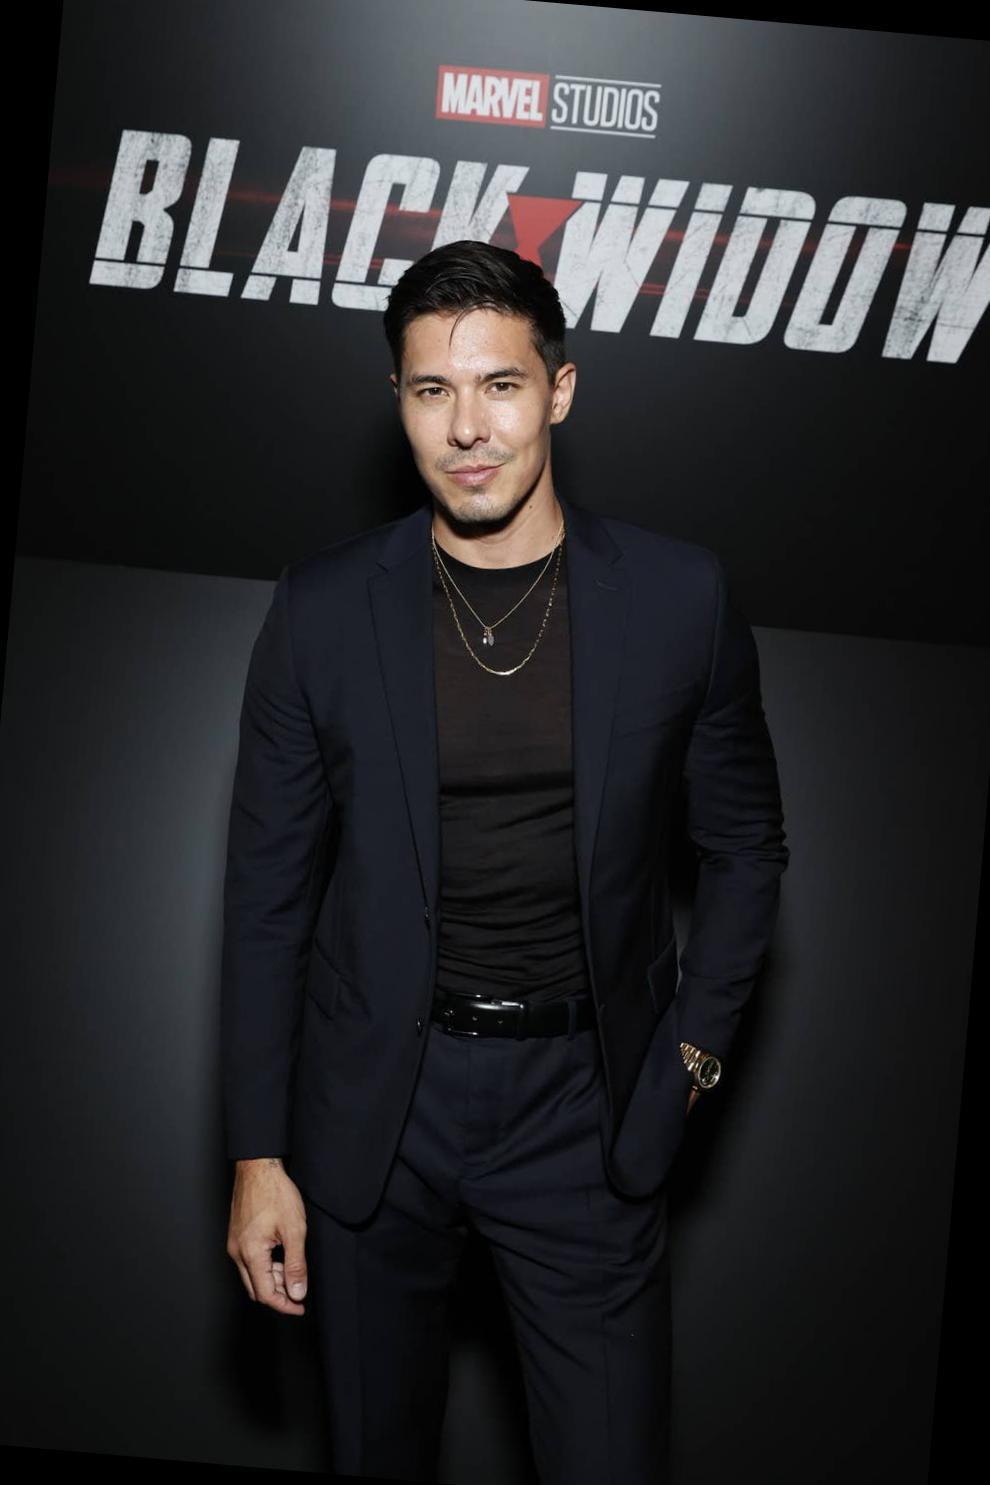Sober: (408, 310, 556, 528)
